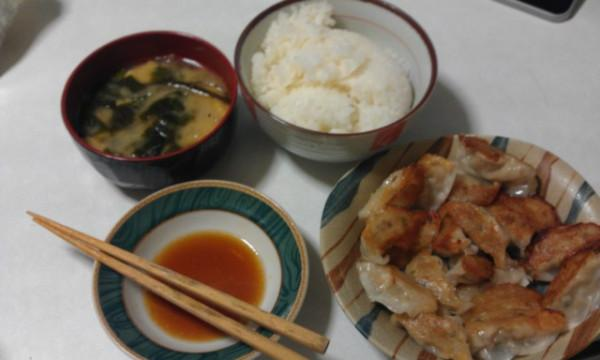rice: (253, 2, 412, 133)
